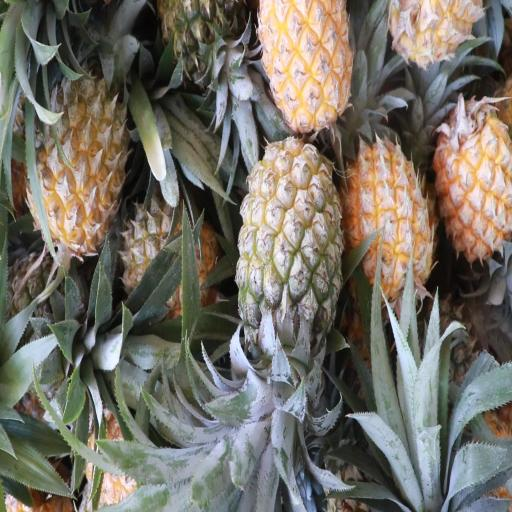------------------------------: (238, 144, 343, 364), (125, 190, 220, 324)
Pineapple - v8 v1: (33, 72, 129, 246), (348, 136, 432, 293), (435, 98, 512, 260), (263, 0, 358, 126)
